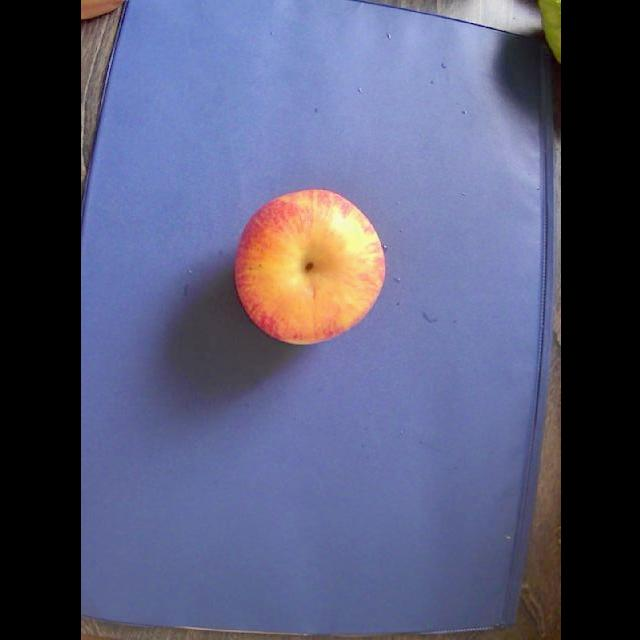manzana: (234, 190, 384, 344)
